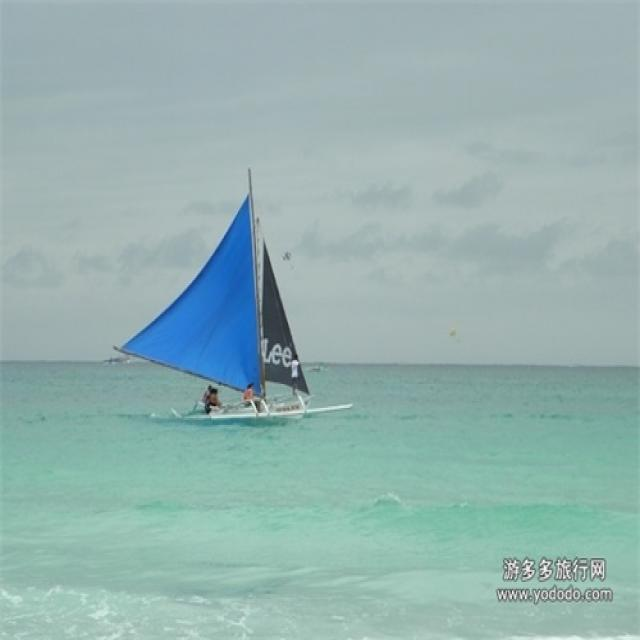Ship: (120, 160, 343, 431)
